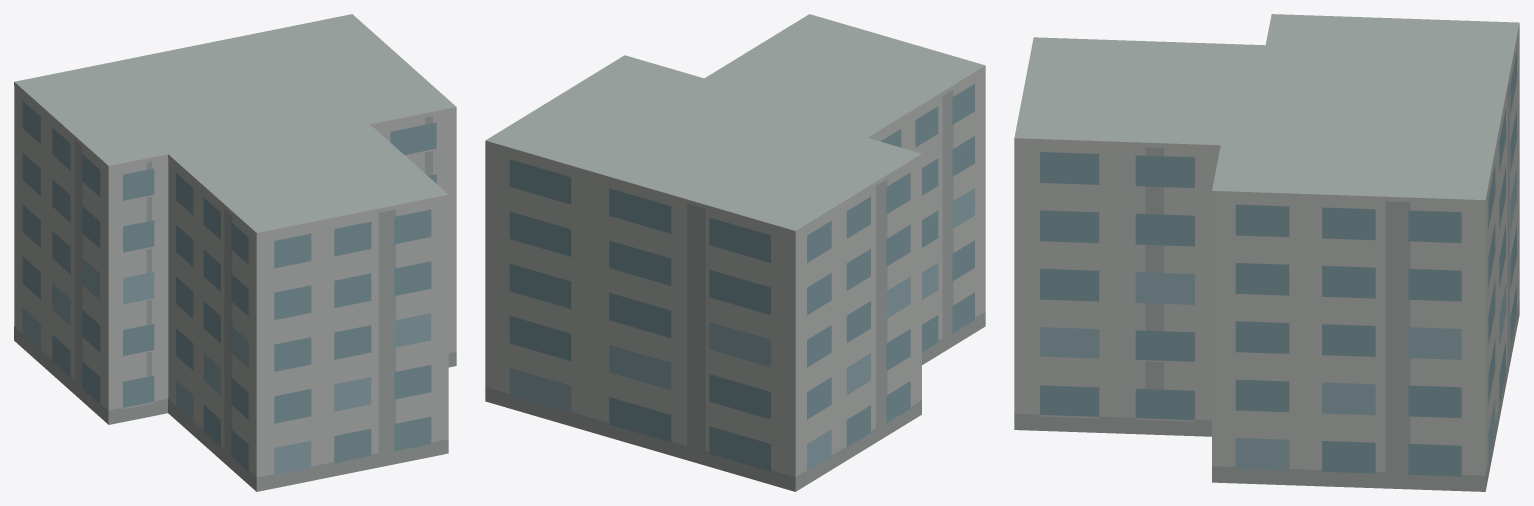
The model's file is residential-a639a486-f91c-4b2a-a871-2e634b6f069d.glb.
The picture shows the model from 3 angles, left to right: view 1: azimuth 30°, elevation 25°; view 2: azimuth 150°, elevation 25°; view 3: azimuth 270°, elevation 25°; orthographic projection. The views are drawn at different scales.
Visible parts, largest first — view 1: residential-a639a486-f91c-4b2a-a871-2e634b6f069d.tmp; view 2: residential-a639a486-f91c-4b2a-a871-2e634b6f069d.tmp; view 3: residential-a639a486-f91c-4b2a-a871-2e634b6f069d.tmp.
Boxes of the visible parts, x1,y1,x2,y2 form: residential-a639a486-f91c-4b2a-a871-2e634b6f069d.tmp: (14, 14, 456, 491); residential-a639a486-f91c-4b2a-a871-2e634b6f069d.tmp: (485, 14, 985, 491); residential-a639a486-f91c-4b2a-a871-2e634b6f069d.tmp: (1014, 14, 1519, 491).
Bounding box in the file's own units: 20.88 × 15.25 × 23.95.
